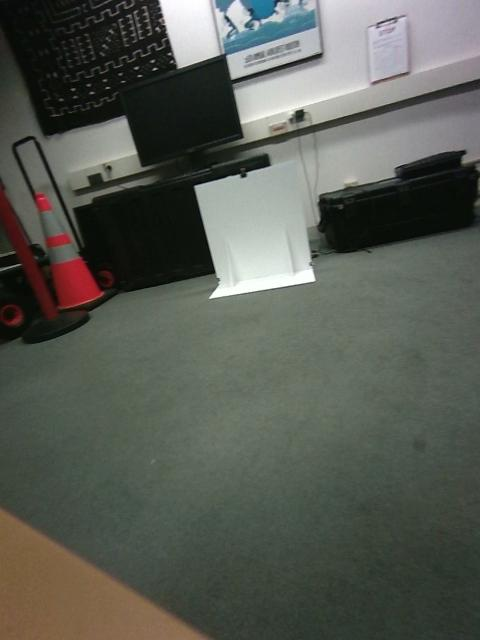block: (382, 288, 414, 346)
